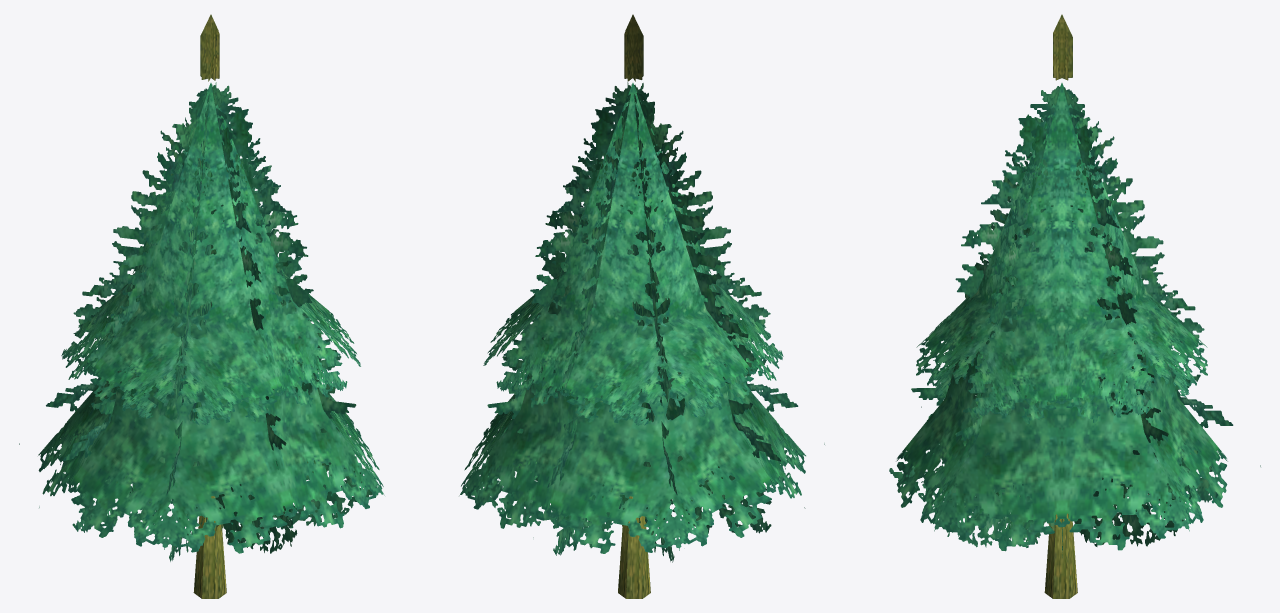
Rendered from pineTreeCasilla07.obj.
3 renders of one model, left to right at view 1: azimuth 30°, elevation 25°; view 2: azimuth 150°, elevation 25°; view 3: azimuth 270°, elevation 25°, orthographic.
Visible parts, largest first — view 1: FP_pat_treeA_H.mo; view 2: FP_pat_treeA_H.mo; view 3: FP_pat_treeA_H.mo.
Boxes of the visible parts, left/top/right/bottom form: FP_pat_treeA_H.mo: left=19, top=14, right=384, bottom=598; FP_pat_treeA_H.mo: left=459, top=14, right=824, bottom=598; FP_pat_treeA_H.mo: left=889, top=14, right=1260, bottom=598.
Bounding box in the file's own units: 1.46 × 2.29 × 1.46.
